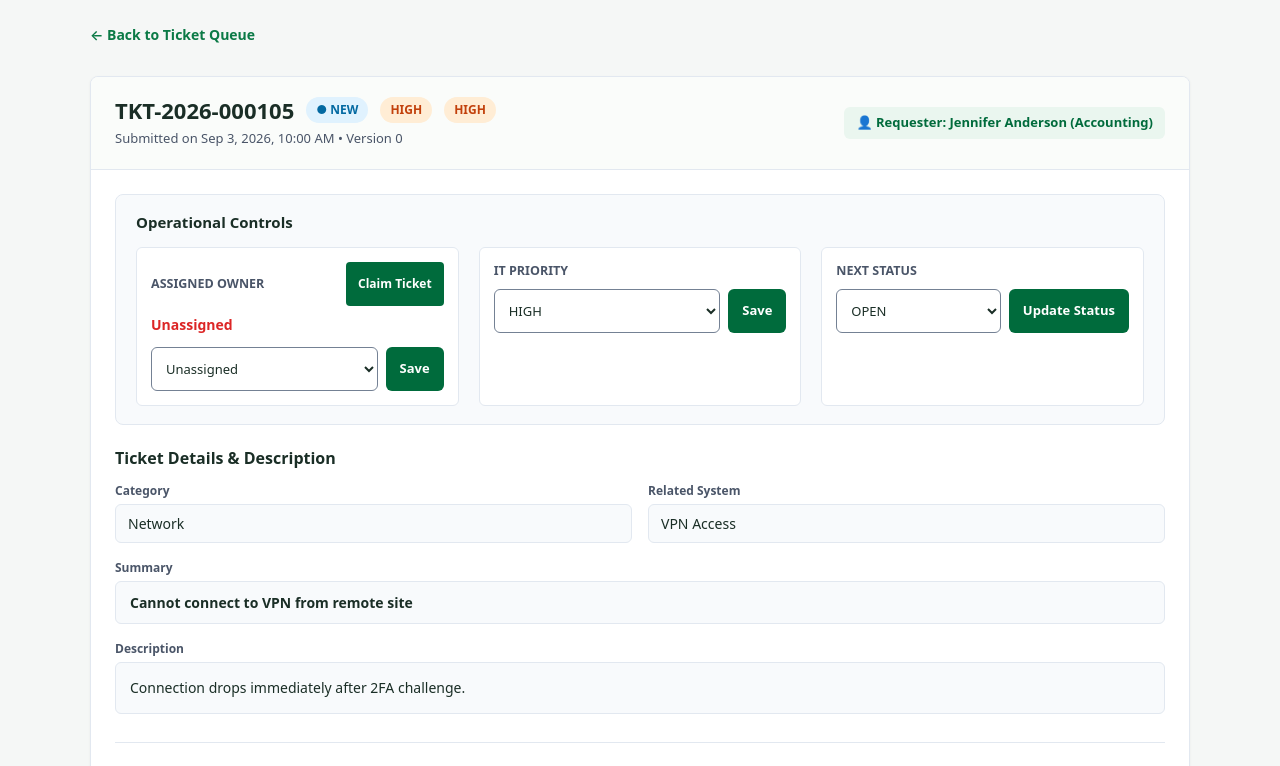
Scenario: UI-05, UI-06, UI-09: Staff Ticket Detail Operations Component › displays Unassigned when ticket has no owner, and shows Claim button which claims ticket
Expected: the text with test id "owner-display" reads "Unassigned", x1=151 y1=315 x2=233 y2=334
Click the button with test id "btn-claim-ticket".
click(395, 284)  # box x1=346 y1=262 x2=444 y2=306
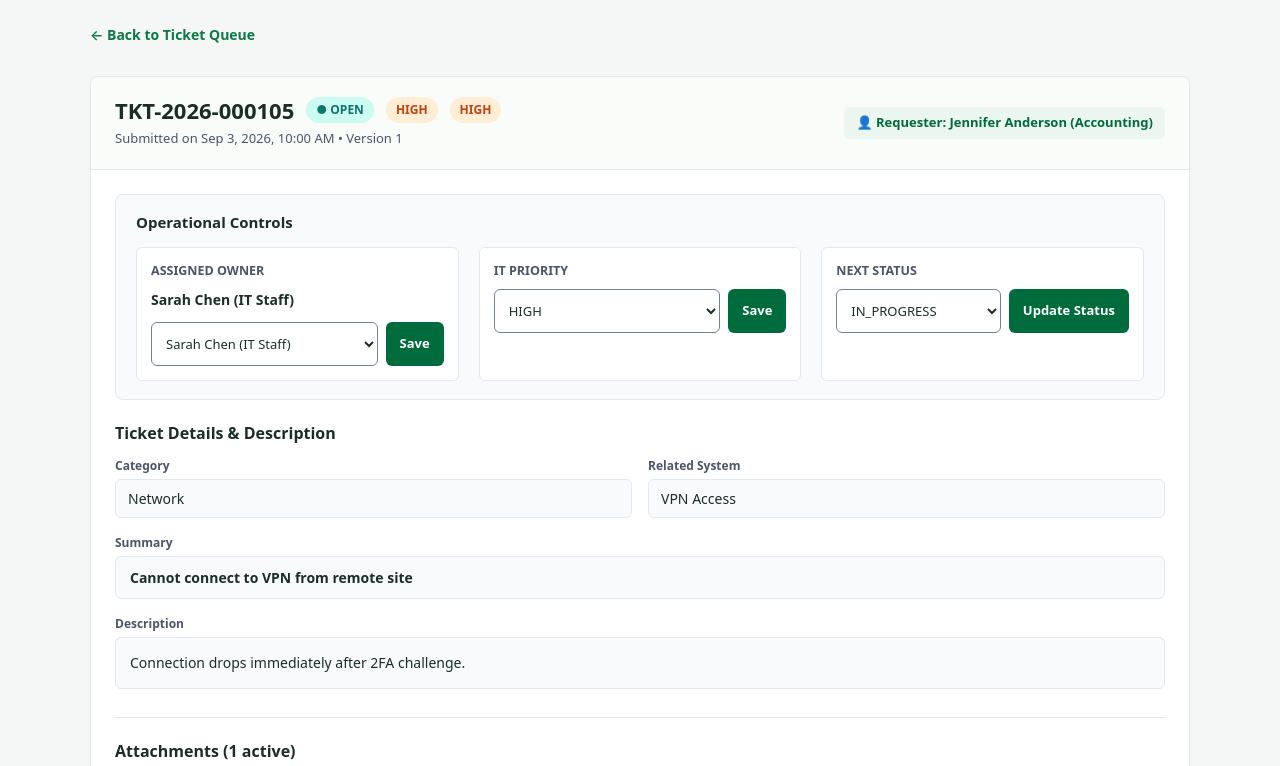
Now the text with test id "owner-display" shows "Sarah Chen", box x1=151 y1=290 x2=294 y2=309
Now the button with test id "btn-claim-ticket" is gone
